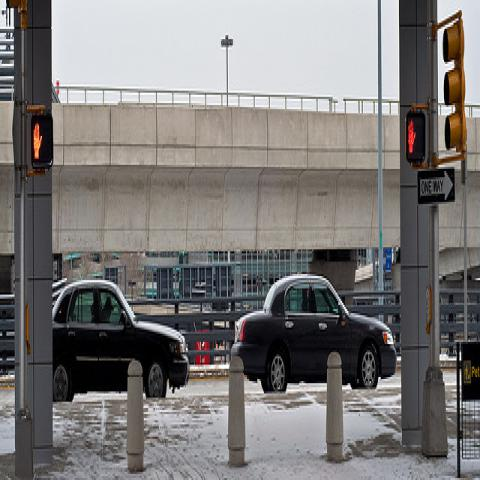car: (232, 268, 396, 394), (52, 279, 189, 401)
